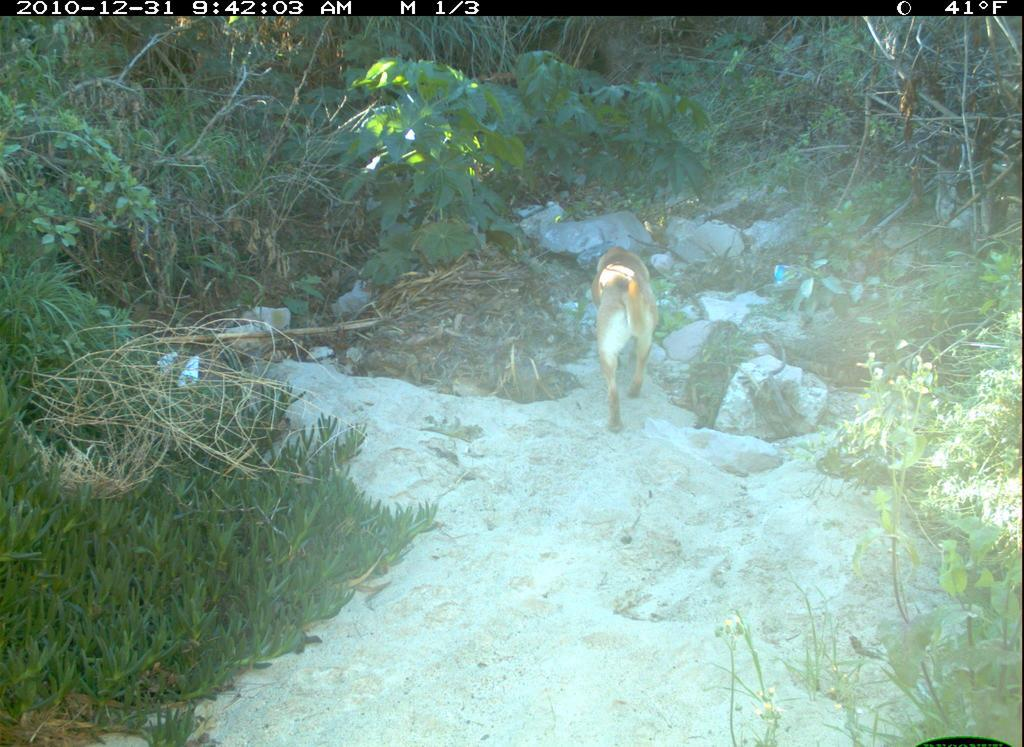dog: (566, 244, 664, 441)
